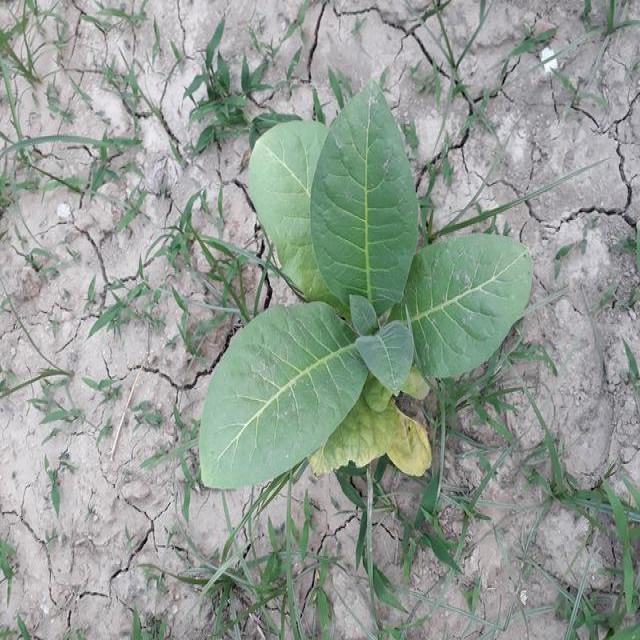crop: (198, 74, 535, 494)
